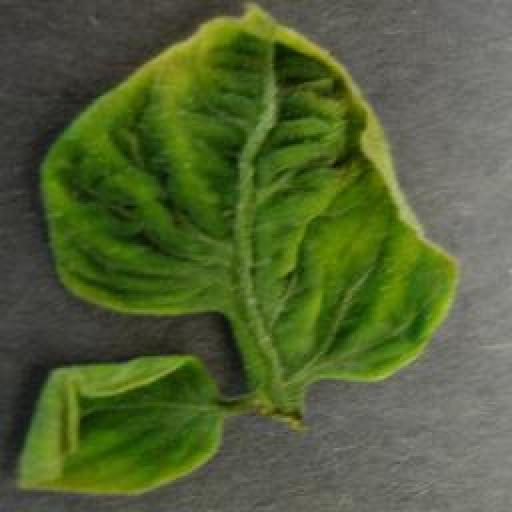disease_tomato: (35, 4, 464, 377), (14, 355, 223, 492)
